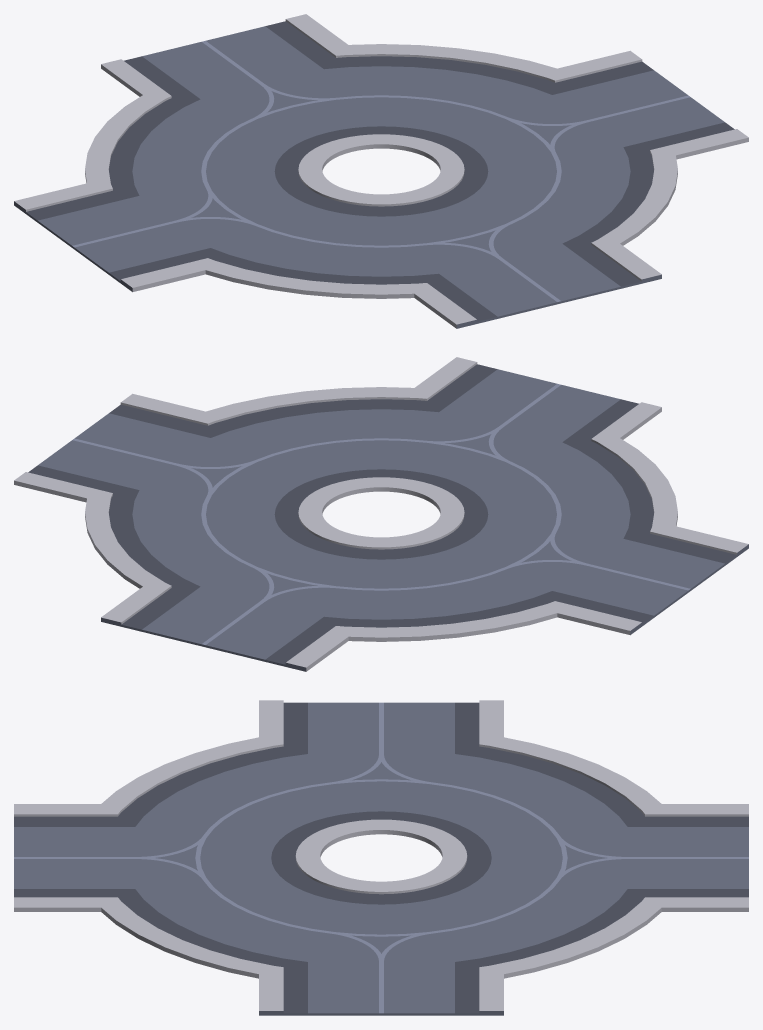
File: road_roundabout.fbx
3 views of the same model, one above another, from view 1: azimuth 30°, elevation 25°; view 2: azimuth 150°, elevation 25°; view 3: azimuth 270°, elevation 25° (orthographic). The views are drawn at different scales.
Visible parts, largest first — view 1: road_roundabout; view 2: road_roundabout; view 3: road_roundabout.
Boxes of the visible parts, x1=… form: road_roundabout: x1=14, y1=14, x2=748, y2=328; road_roundabout: x1=14, y1=357, x2=748, y2=671; road_roundabout: x1=14, y1=700, x2=748, y2=1015.
Bounding box in the file's own units: 30 × 0.2 × 30.
